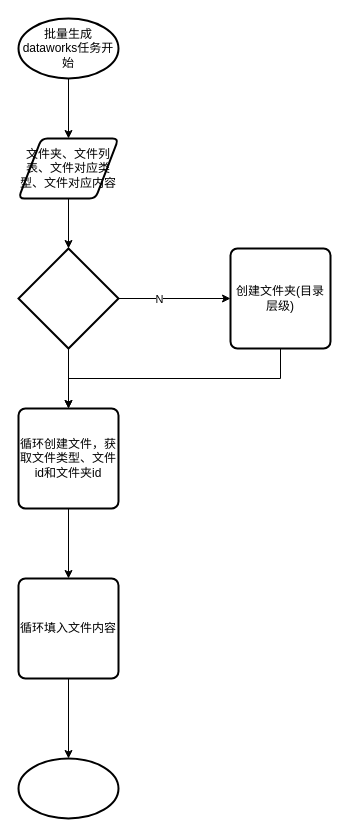
Image size: 348x836. Some labels were removed from this diagram. The shapes that lost their labels are listed below. From the top down, each one's centre as x and y in pixels, then its label:
At (68,298): "文件夹是否存在".
At (68,788): "结束".
